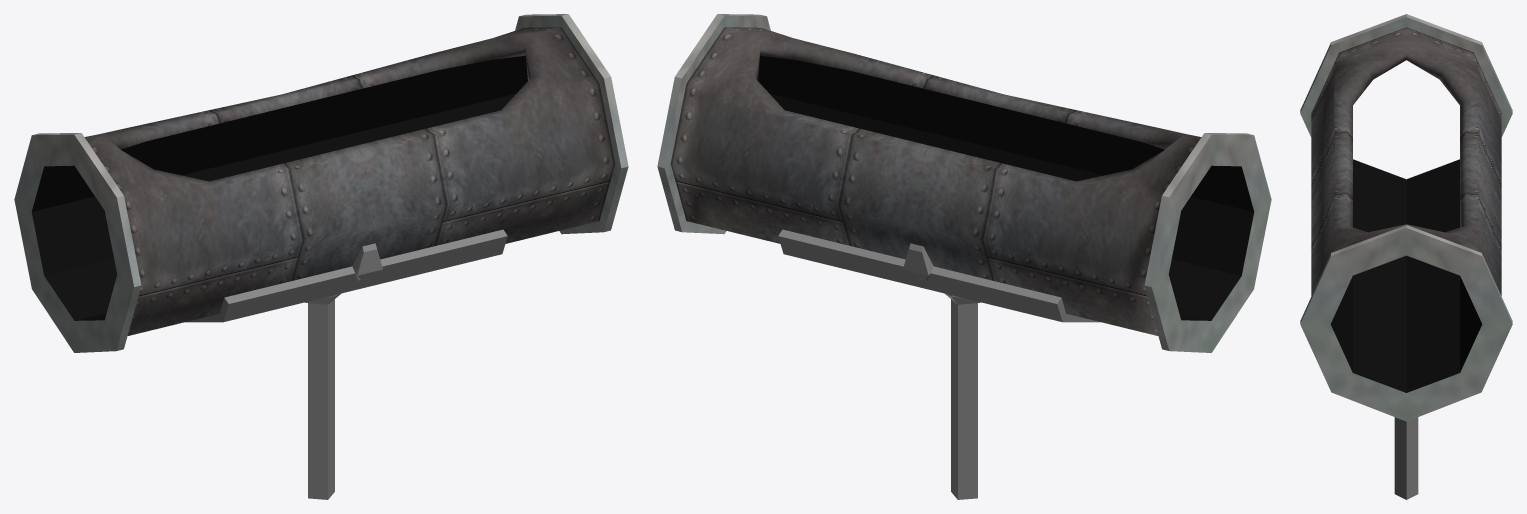
Rendered from pipe_E.glb.
3 renders of one model, left to right at view 1: azimuth 30°, elevation 25°; view 2: azimuth 150°, elevation 25°; view 3: azimuth 270°, elevation 25°, orthographic. The views are drawn at different scales.
Visible parts, largest first — view 1: zhuti.I; view 2: zhuti.I; view 3: zhuti.I.
Part boxes in pixels (x1=…): zhuti.I: x1=14, y1=14, x2=628, y2=499; zhuti.I: x1=657, y1=14, x2=1271, y2=499; zhuti.I: x1=1300, y1=14, x2=1512, y2=499.
Bounding box in the file's own units: 10.01 × 8.14 × 4.2.
Materials: 1 (1 with a texture image).
